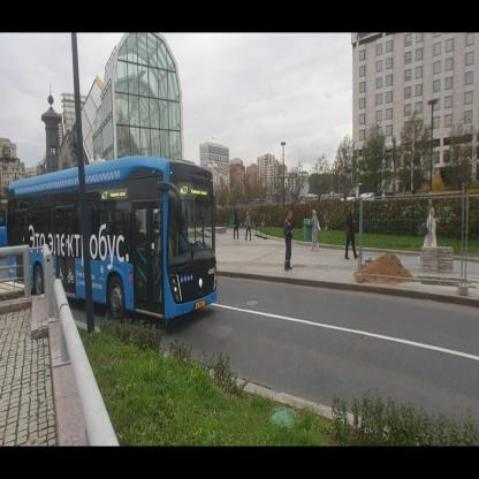bus: (5, 157, 219, 324)
